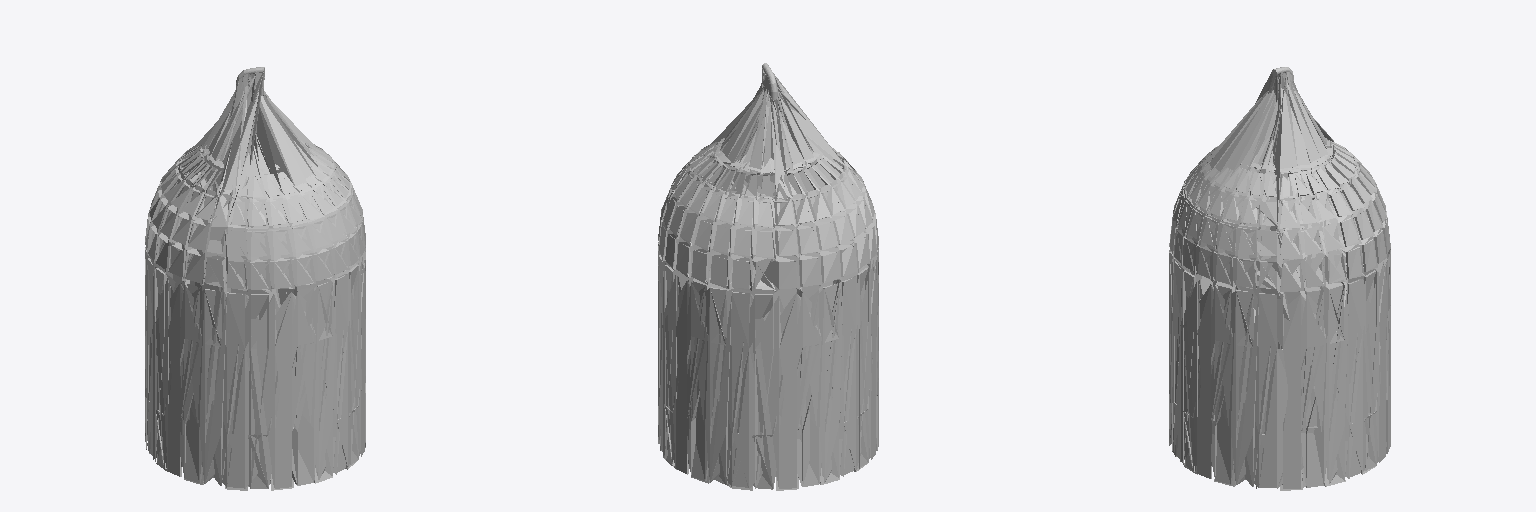
File: bird_cage.obj
3 views of the same model, side by side, from view 1: azimuth 30°, elevation 25°; view 2: azimuth 150°, elevation 25°; view 3: azimuth 270°, elevation 25° (orthographic).
Visible parts, largest first — view 1: Cylinder005; view 2: Cylinder005; view 3: Cylinder005.
Part boxes in pixels (left/top/right/bottom): Cylinder005: left=145, top=71, right=365, bottom=490; Cylinder005: left=658, top=69, right=878, bottom=490; Cylinder005: left=1169, top=69, right=1390, bottom=490.
Bounding box in the file's own units: 296811 × 558932 × 297222.